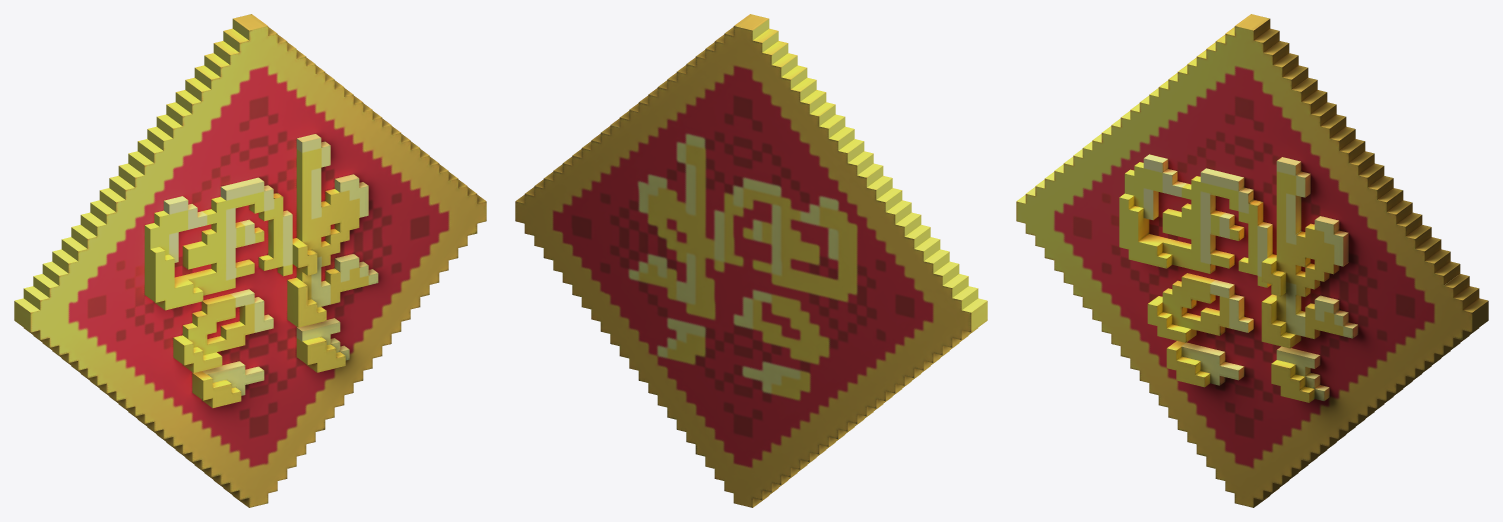
The model's file is taiwan.glb.
3 views of the same model, side by side, from view 1: azimuth 30°, elevation 25°; view 2: azimuth 150°, elevation 25°; view 3: azimuth 330°, elevation 25° (orthographic).
Parts seen in each view (by area): view 1: Untitled; view 2: Untitled; view 3: Untitled.
Boxes of the visible parts, left/top/right/bottom form: Untitled: left=14, top=14, right=486, bottom=507; Untitled: left=515, top=14, right=987, bottom=507; Untitled: left=1016, top=14, right=1488, bottom=507.
Bounding box in the file's own units: 4.8 × 4.8 × 0.5.
Materials: 1 (1 with a texture image).
